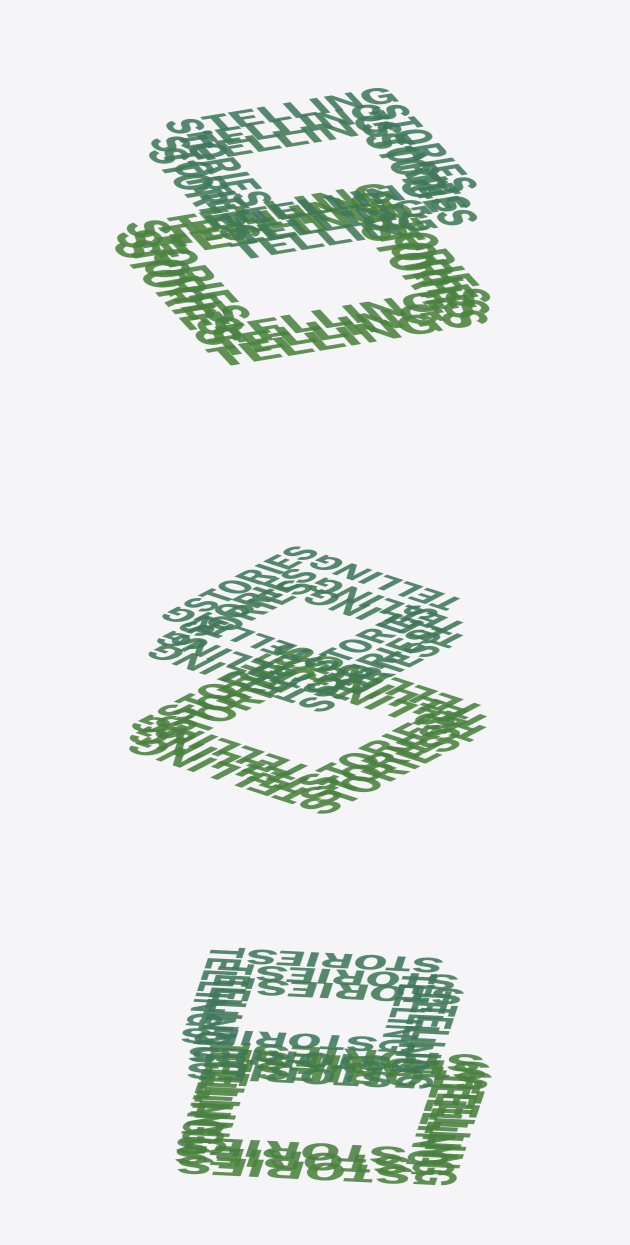
Rendered from Kate_web_fin.glb.
3 renders of one model, top to bottom at view 1: azimuth 30°, elevation 25°; view 2: azimuth 150°, elevation 25°; view 3: azimuth 270°, elevation 25°, orthographic. The views are drawn at different scales.
Visible parts, largest first — view 1: Grid.009, Grid.004, Grid.010, Grid.005, Grid.006, Grid.011; view 2: Grid.009, Grid.005, Grid.010, Grid.004, Grid.011, Grid.006; view 3: Grid.009, Grid.004, Grid.005, Grid.010, Grid.006, Grid.011.
Boxes of the visible parts, x1,y1,x2,y2 form: Grid.009: [127, 184, 489, 342]; Grid.004: [166, 88, 476, 223]; Grid.010: [117, 193, 489, 354]; Grid.005: [151, 104, 470, 243]; Grid.006: [149, 115, 476, 258]; Grid.011: [115, 203, 487, 365]; Grid.009: [132, 644, 480, 789]; Grid.005: [157, 569, 462, 696]; Grid.010: [130, 654, 486, 802]; Grid.004: [162, 546, 459, 670]; Grid.011: [129, 665, 486, 813]; Grid.006: [148, 580, 462, 711]; Grid.009: [176, 1043, 482, 1164]; Grid.004: [181, 948, 442, 1052]; Grid.005: [189, 964, 457, 1071]; Grid.010: [175, 1050, 488, 1175]; Grid.006: [187, 978, 463, 1088]; Grid.011: [178, 1060, 491, 1185].
Bounding box in the file's own units: 3.45 × 1.28 × 4.62.
9 materials, 9 textured.
